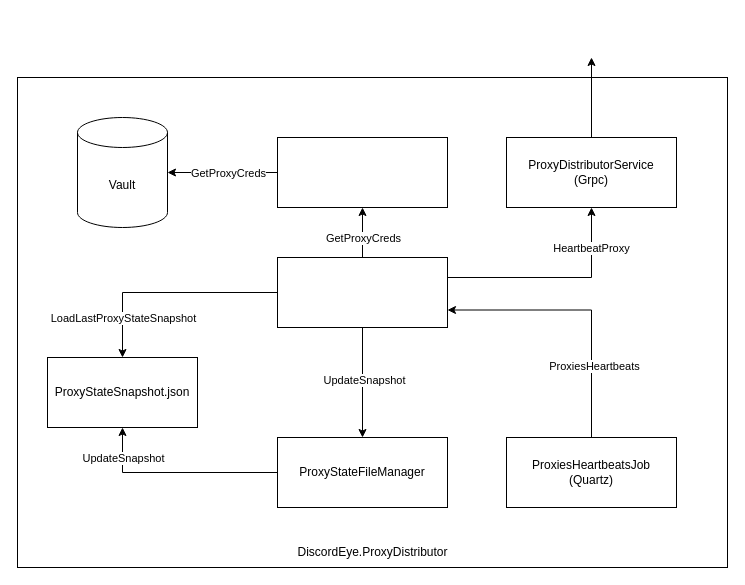
This 745x585 diagram has some shape labels left out. The centre of each missing label's shape, as x and y in pixels:
"ProxyReservationService" goes at [362,292].
"ProxyVaultService" goes at [362,172].
